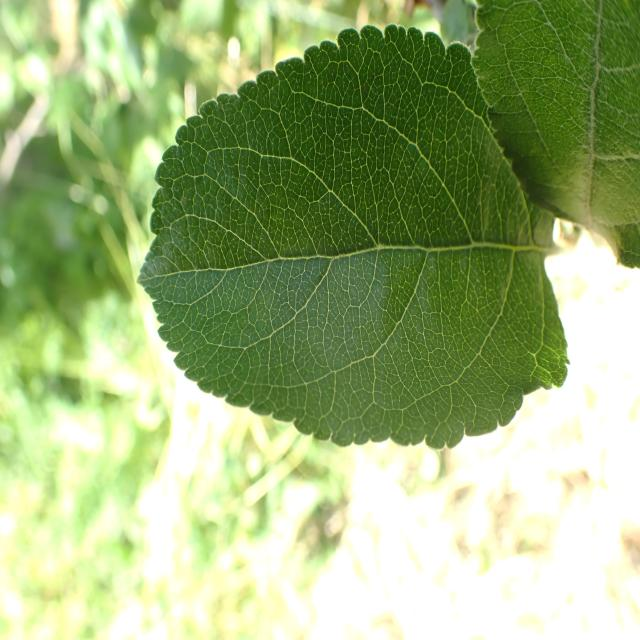healthy: (136, 25, 570, 449), (470, 0, 639, 270)
